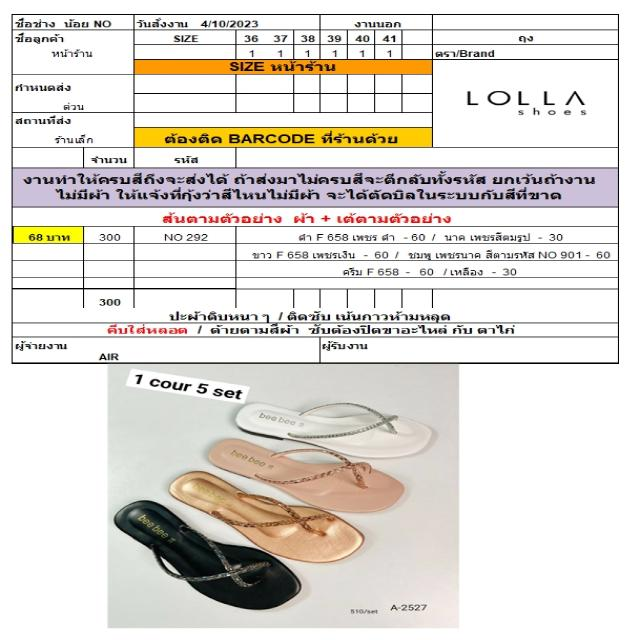black: (113, 501, 300, 612)
nak: (173, 469, 361, 564)
pink: (213, 439, 400, 513)
white: (238, 408, 430, 459)
